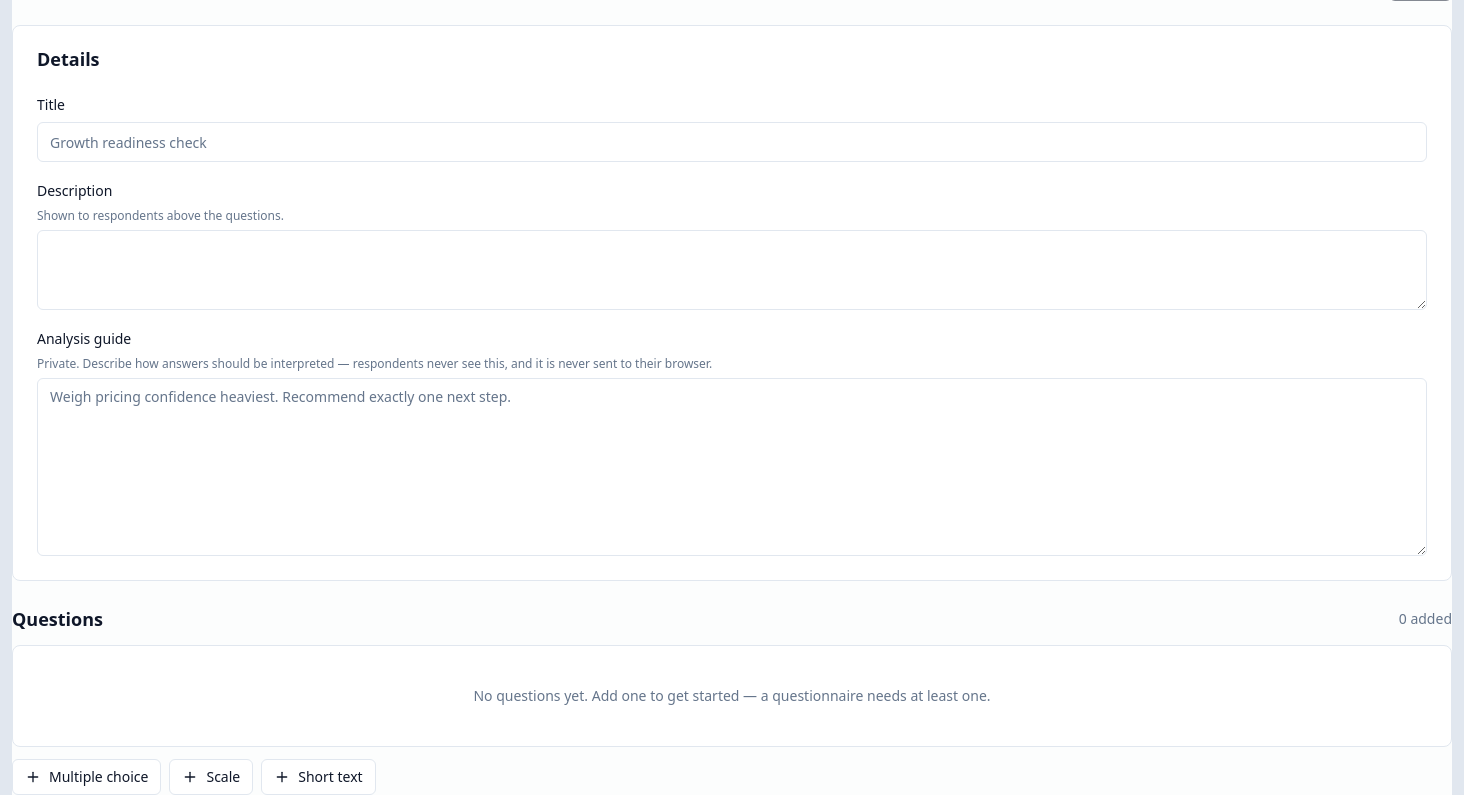
Test: BuilderPage question ordering › moves a question down and renumbers
The width and height of the screenshot is (1464, 795).
(page scrolled)
Click the button "Short text".
click(318, 777)  # box [261,759,376,794]
(page scrolled)
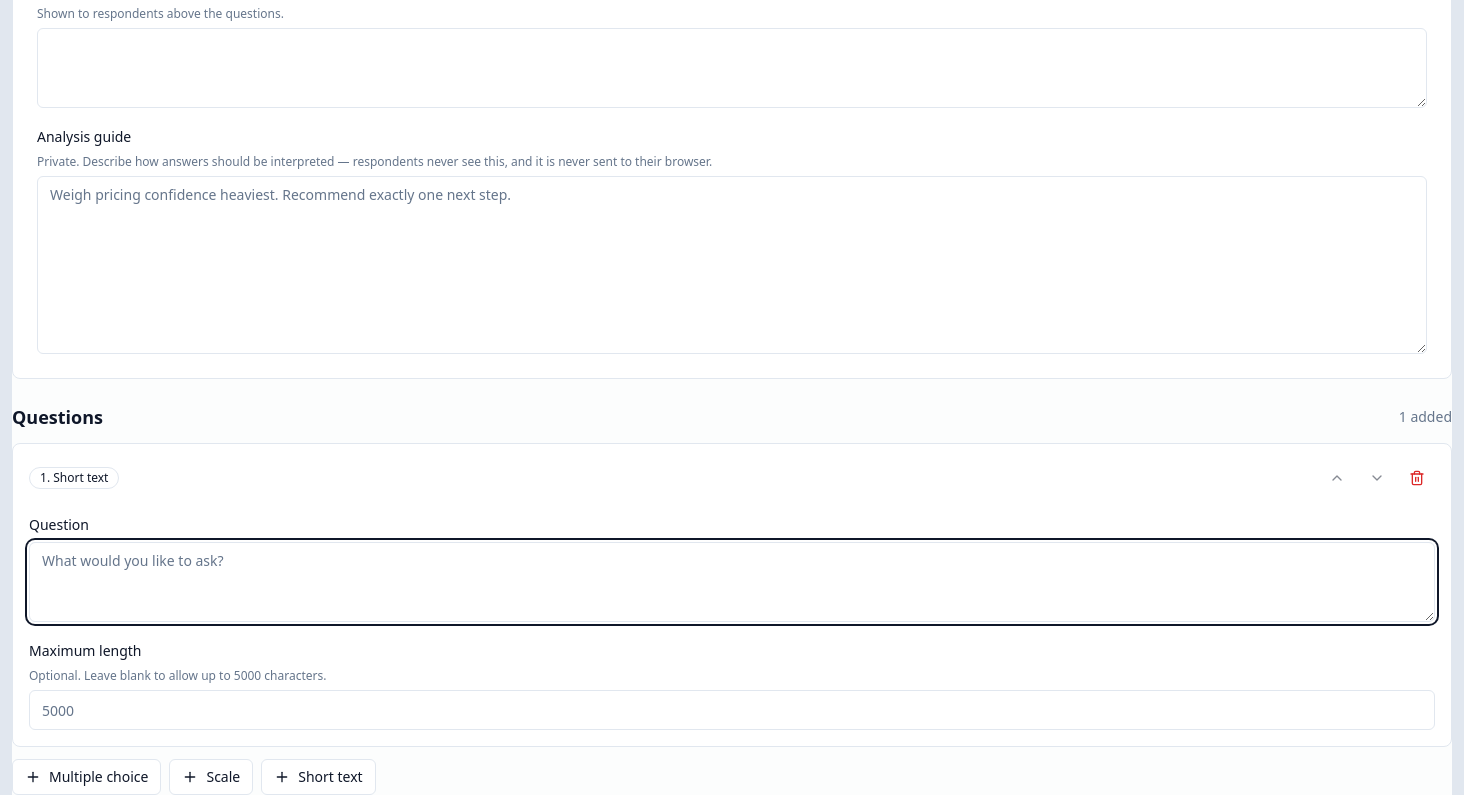
Click the button "Scale".
click(211, 777)  # box [170,759,253,794]
(page scrolled)
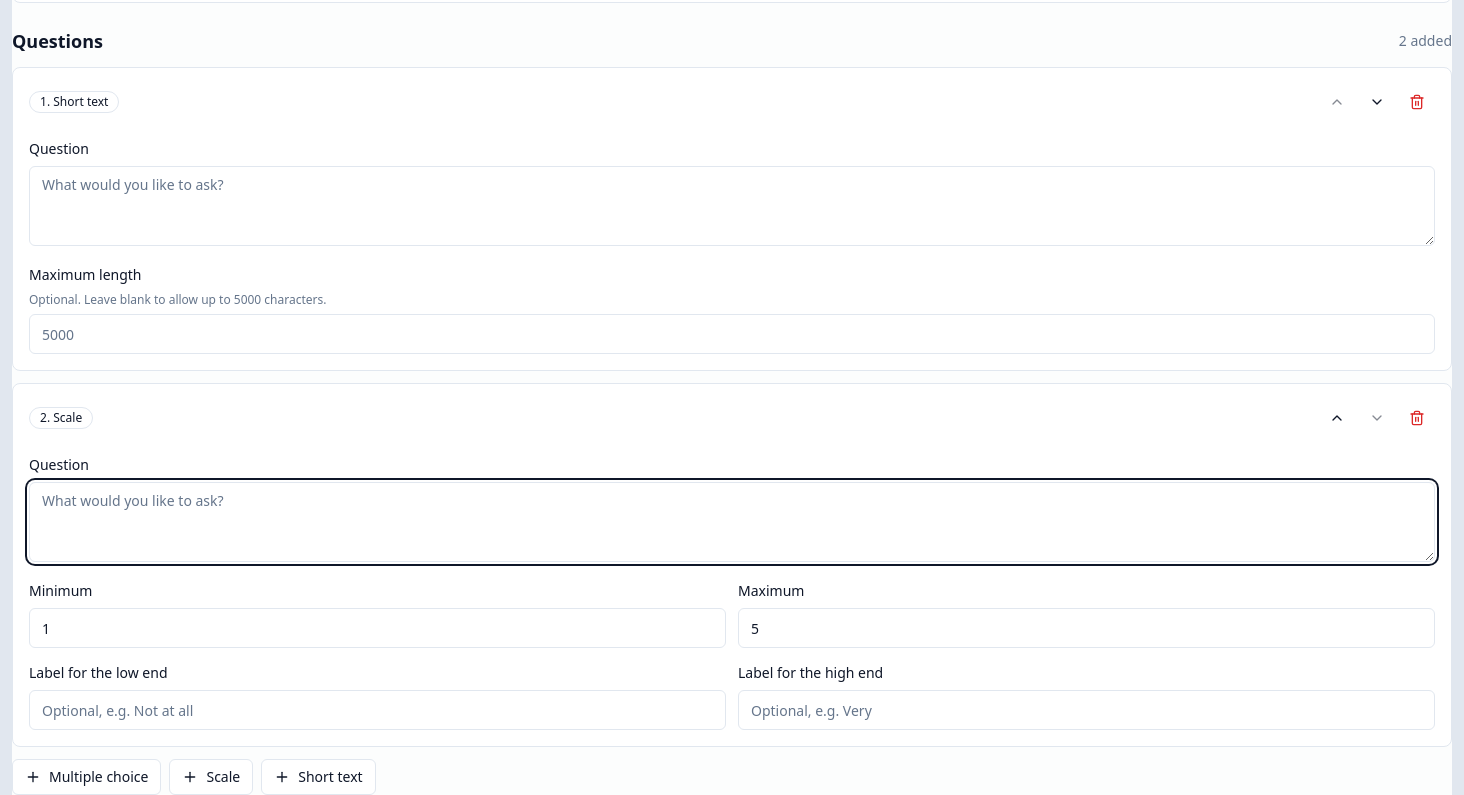
Expected: the text "1. Short text" is shown, [29,91,119,113]
Click the button named "move question 1 down".
click(1377, 102)  # box [1359,84,1395,120]
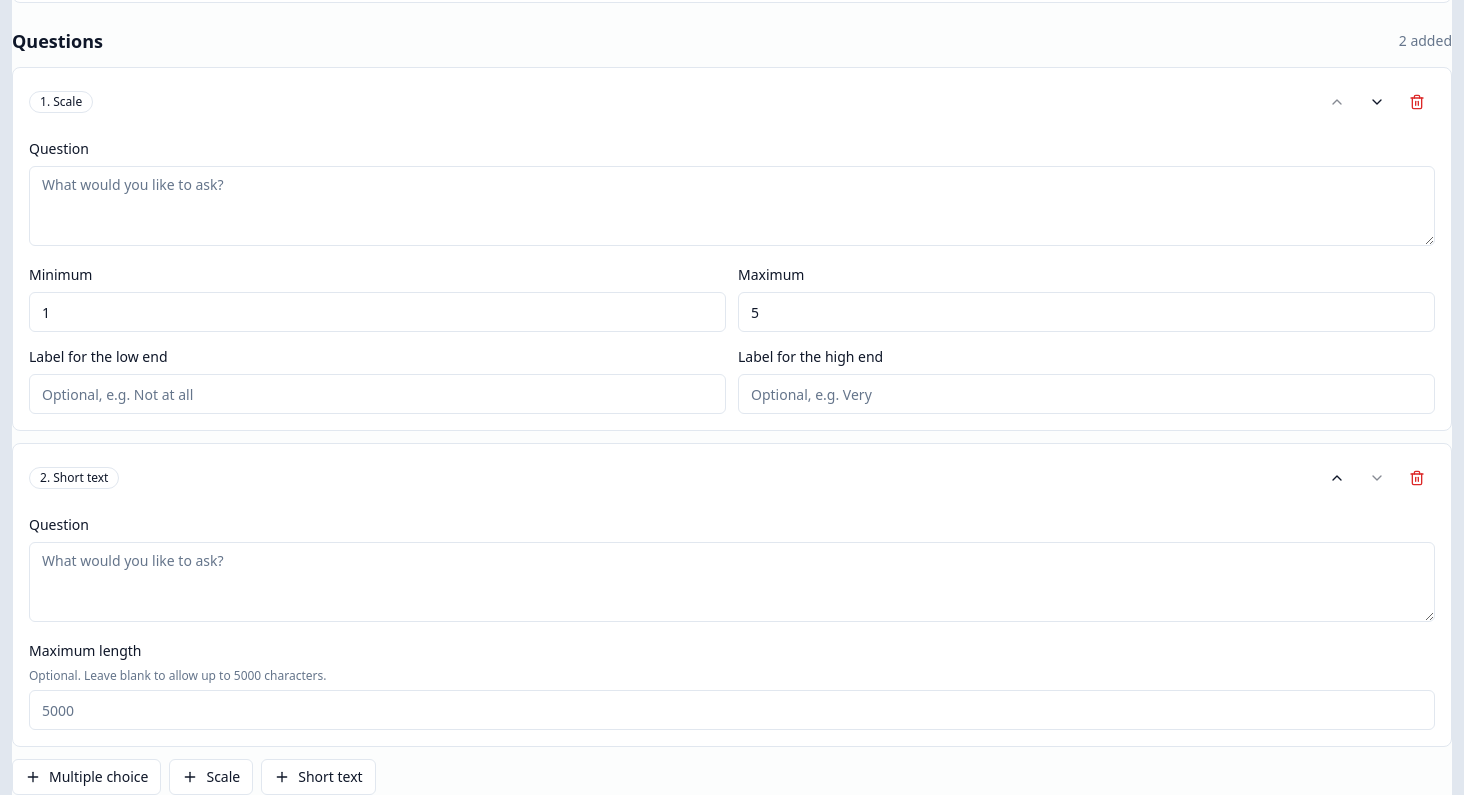
Expected: the text "1. Scale" is shown, [29,91,93,113]
